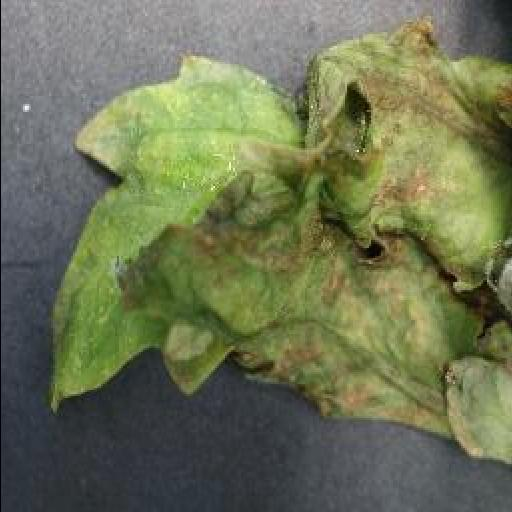disease_tomato: (44, 14, 512, 462)
